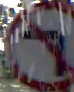Don't turn left: (4, 2, 73, 91)
